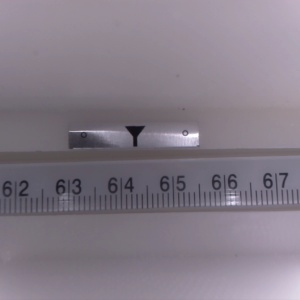2: (18, 180, 29, 196)
3: (71, 179, 81, 195)
4: (124, 176, 134, 193)
5: (176, 175, 185, 191)
6: (1, 180, 12, 197), (54, 179, 65, 195), (210, 174, 221, 190), (262, 172, 272, 189), (109, 176, 119, 193), (159, 175, 169, 191), (226, 173, 236, 189)
7: (278, 172, 288, 188)
finger: (123, 125, 145, 149)
